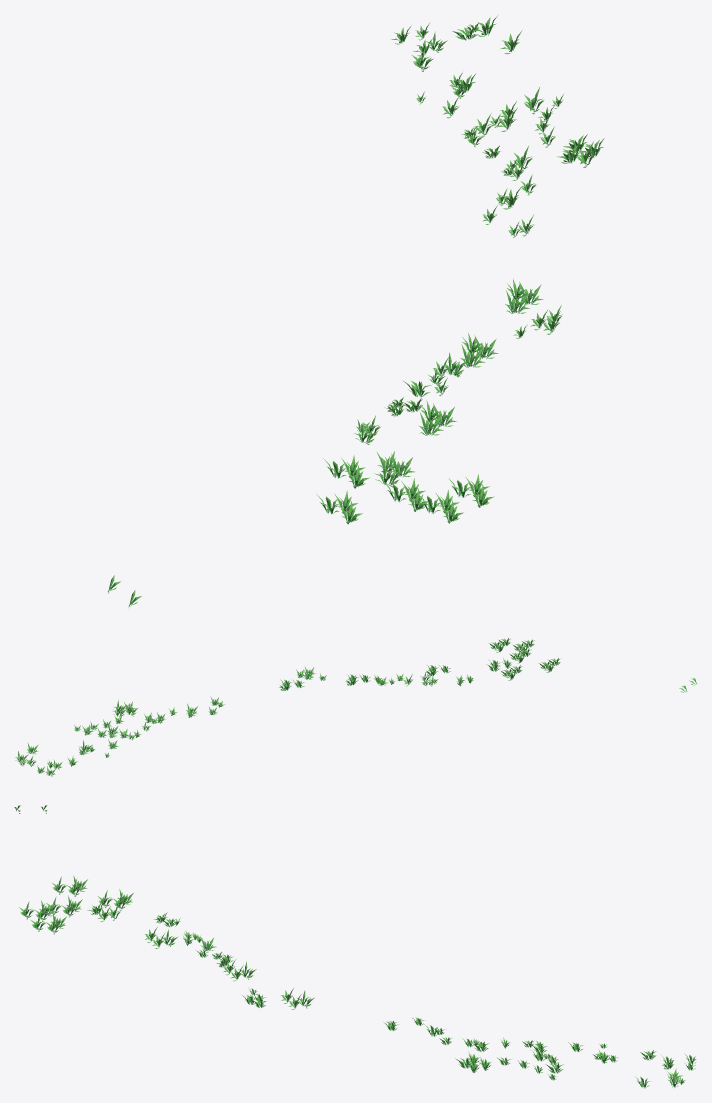
The model's file is Area_11_52.fbx.
3 renders of one model, top to bottom at view 1: azimuth 30°, elevation 25°; view 2: azimuth 150°, elevation 25°; view 3: azimuth 270°, elevation 25°, orthographic. The views are drawn at different scales.
Visible parts, largest first — view 1: Area_11_52; view 2: Area_11_52; view 3: Area_11_52.
Part boxes in pixels (x1,y1,x2,y2): Area_11_52: (108,16,604,606); Area_11_52: (15,638,696,776); Area_11_52: (14,805,696,1088).
Bounding box in the file's own units: 3973 × 93.03 × 4104.
